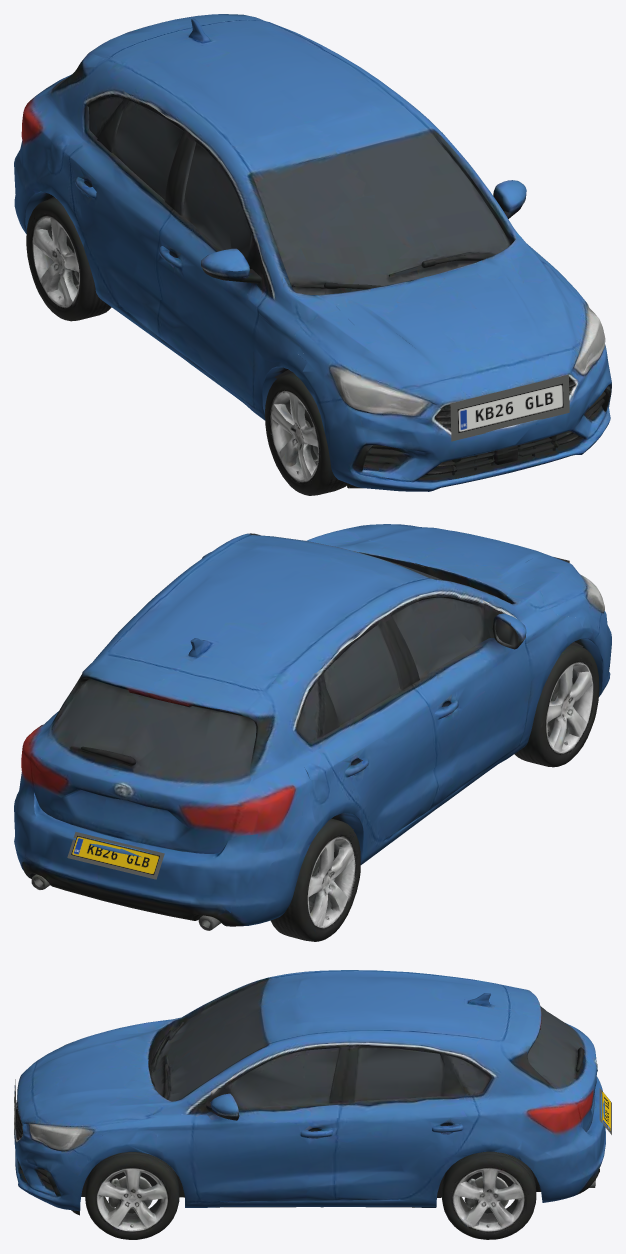
File: car-family.glb
3 renders of one model, top to bottom at view 1: azimuth 30°, elevation 25°; view 2: azimuth 150°, elevation 25°; view 3: azimuth 270°, elevation 25°, orthographic. The views are drawn at different scales.
Visible parts, largest first — view 1: body, wheel_FR_mesh, wheel_RR_mesh; view 2: body, wheel_RR_mesh, wheel_FR_mesh; view 3: body, wheel_RL_mesh, wheel_FL_mesh.
Part boxes in pixels (<box>): body: <box>14,14,611,491</box>; wheel_FR_mesh: <box>265,347,351,495</box>; wheel_RR_mesh: <box>26,198,111,321</box>; body: <box>14,524,611,930</box>; wheel_RR_mesh: <box>270,818,360,941</box>; wheel_FR_mesh: <box>514,616,599,767</box>; body: <box>14,970,611,1214</box>; wheel_RL_mesh: <box>437,1151,540,1239</box>; wheel_FL_mesh: <box>75,1136,184,1239</box>.
Size of the model in its own units: 2.02 by 1.59 by 4.34.
Materials: 3 (2 with a texture image).
